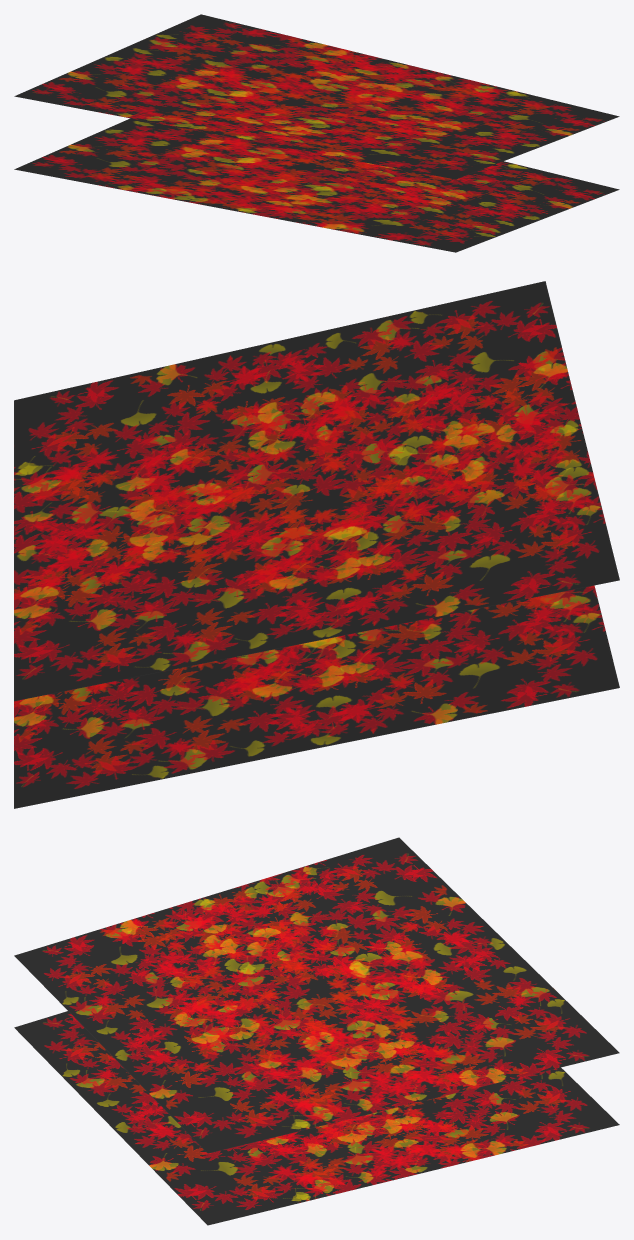
Rendered from OBJ_CourseAki_CurveFloor_3_10.fbx.
The picture shows the model from 3 angles, top to bottom: view 1: azimuth 30°, elevation 25°; view 2: azimuth 150°, elevation 25°; view 3: azimuth 270°, elevation 25°; orthographic projection. The views are drawn at different scales.
Parts seen in each view (by area): view 1: polySurface118, polySurface119; view 2: polySurface118, polySurface119; view 3: polySurface118, polySurface119.
Part boxes in pixels (<box>): polySurface118: <box>14,14,619,179</box>; polySurface119: <box>14,118,619,252</box>; polySurface118: <box>14,281,619,701</box>; polySurface119: <box>14,585,619,808</box>; polySurface118: <box>14,837,619,1153</box>; polySurface119: <box>14,1011,619,1225</box>.
Bounding box in the file's own units: 7.29 × 2 × 7.64.
1 material, 1 textured.
